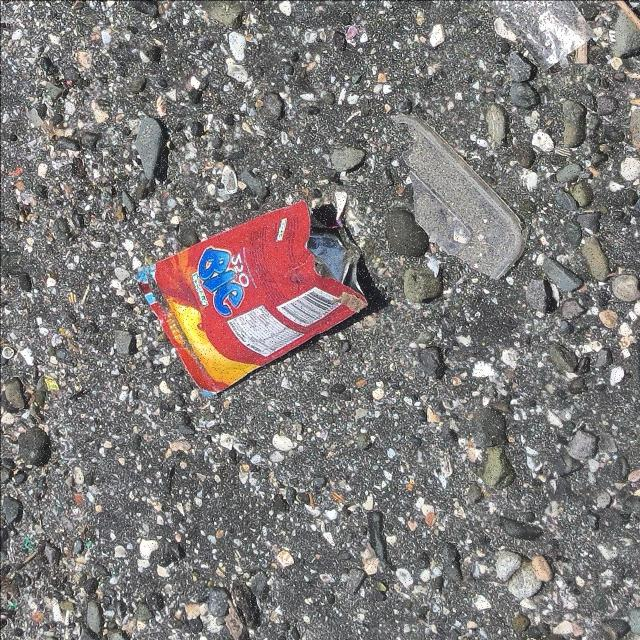plastic_waste: (136, 199, 370, 399)
